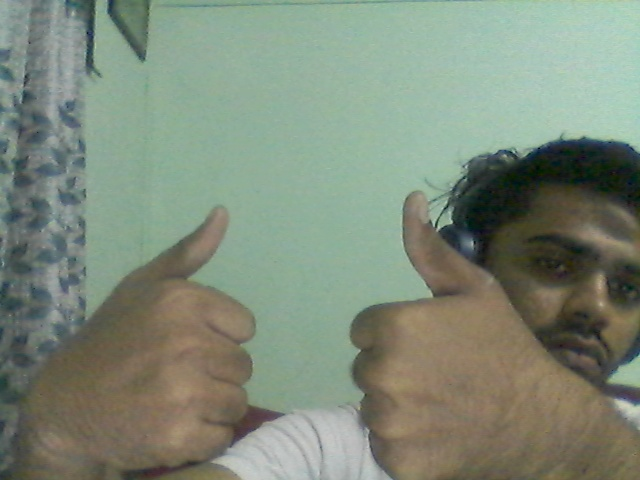Thank You: (28, 176, 604, 480)
